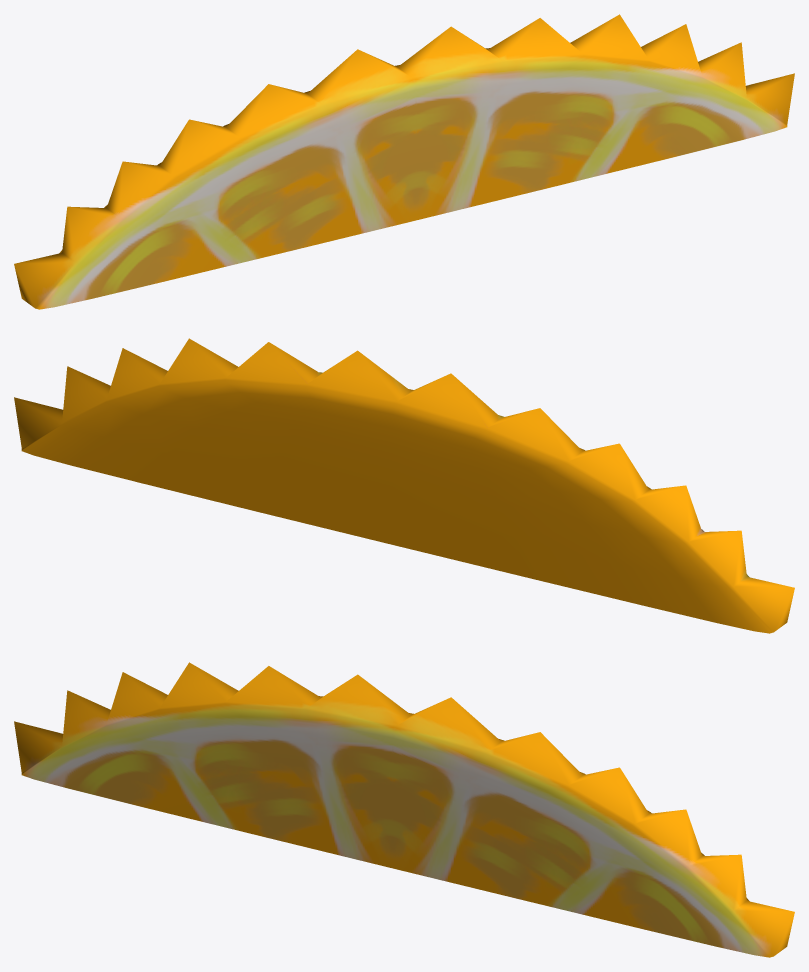
Rendered from ship3.fbx.
3 renders of one model, top to bottom at view 1: azimuth 30°, elevation 25°; view 2: azimuth 150°, elevation 25°; view 3: azimuth 330°, elevation 25°, orthographic.
Parts seen in each view (by area): view 1: ship_016; view 2: ship_016; view 3: ship_016.
Boxes of the visible parts, x1,y1,x2,y2 form: ship_016: (14,14,794,309); ship_016: (14,338,794,633); ship_016: (14,662,794,957).
Size of the model in its own units: 208 by 44.21 by 11.21.
